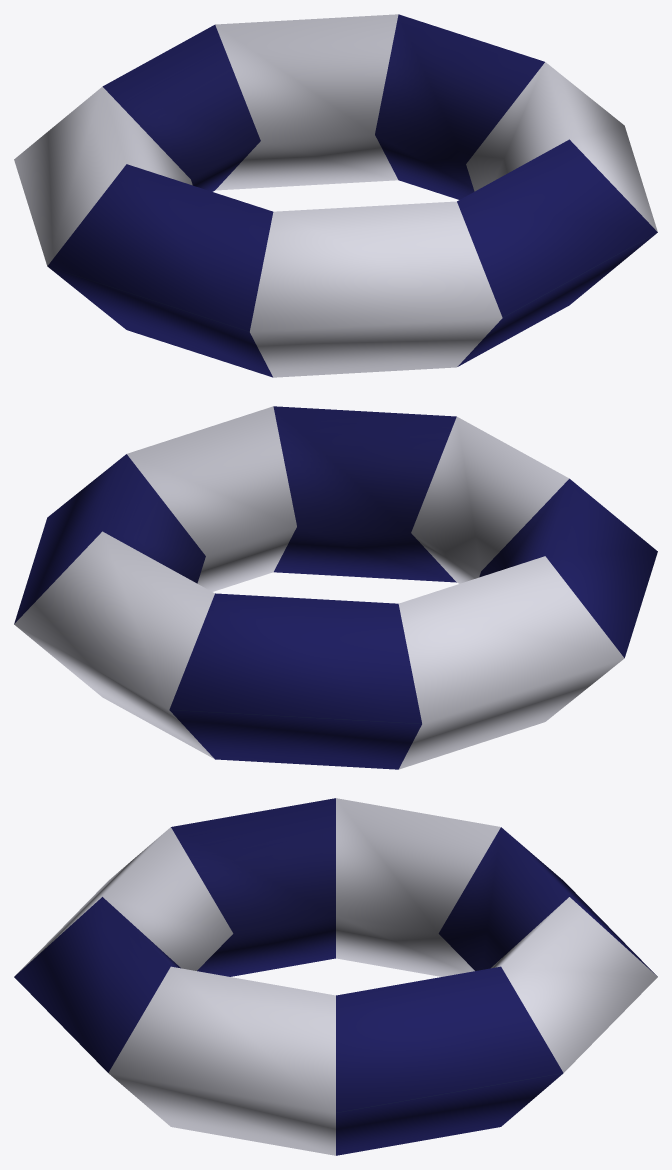
File: ETC0610019.fbx
3 views of the same model, one above another, from view 1: azimuth 30°, elevation 25°; view 2: azimuth 150°, elevation 25°; view 3: azimuth 270°, elevation 25° (orthographic). The views are drawn at different scales.
Visible parts, largest first — view 1: smETC0610019; view 2: smETC0610019; view 3: smETC0610019.
Boxes of the visible parts, x1,y1,x2,y2 form: smETC0610019: [14, 14, 657, 377]; smETC0610019: [14, 406, 657, 769]; smETC0610019: [14, 798, 657, 1155].
Size of the model in its own units: 139 by 38.22 by 139.
1 material, 1 textured.
